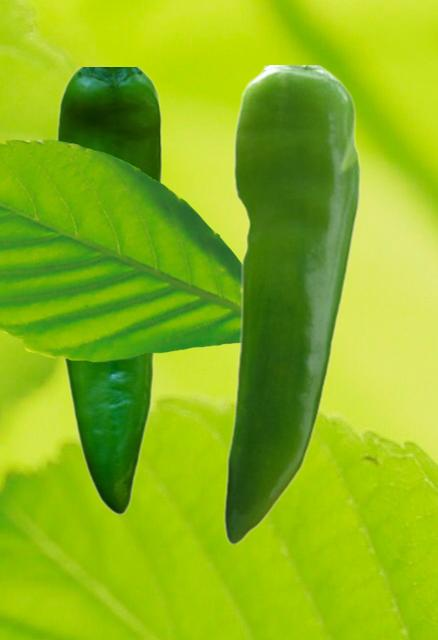green_chili: (223, 65, 359, 543), (55, 67, 162, 513)
